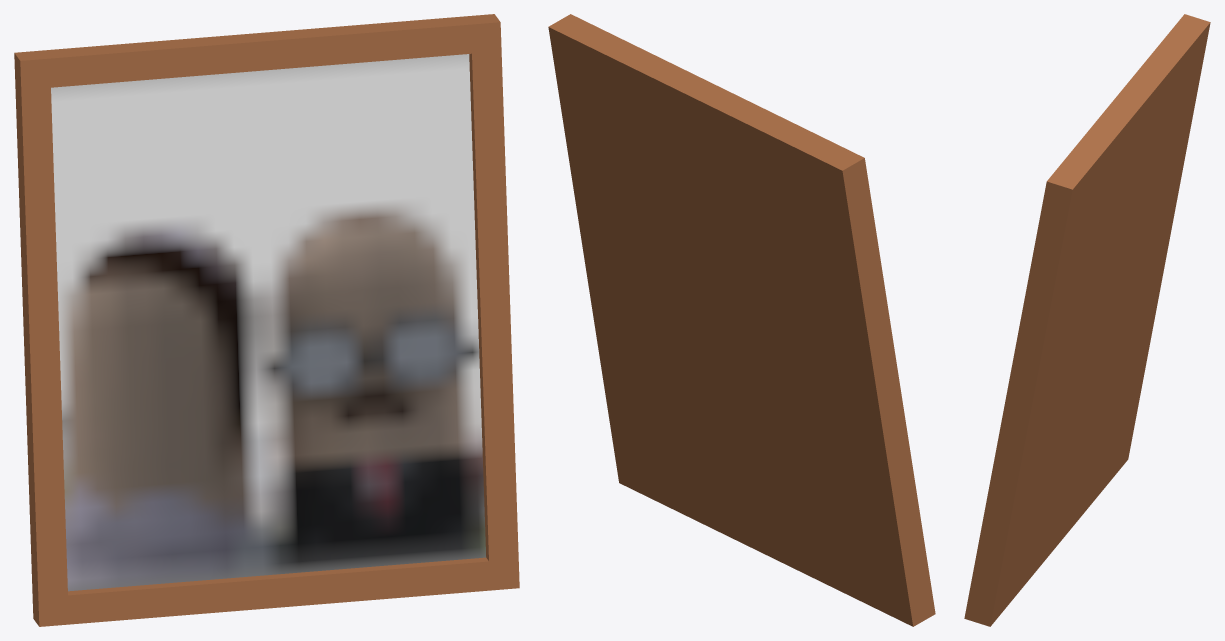
Rendered from Foto_Pernikahan.fbx.
The picture shows the model from 3 angles, left to right: view 1: azimuth 30°, elevation 25°; view 2: azimuth 150°, elevation 25°; view 3: azimuth 270°, elevation 25°; orthographic projection. The views are drawn at different scales.
Parts seen in each view (by area): view 1: Cube.008; view 2: Cube.008; view 3: Cube.008.
Part boxes in pixels (<box>): Cube.008: <box>14,14,519,626</box>; Cube.008: <box>548,14,935,626</box>; Cube.008: <box>964,14,1210,626</box>.
Bounding box in the file's own units: 31.03 × 35.8 × 17.61.
